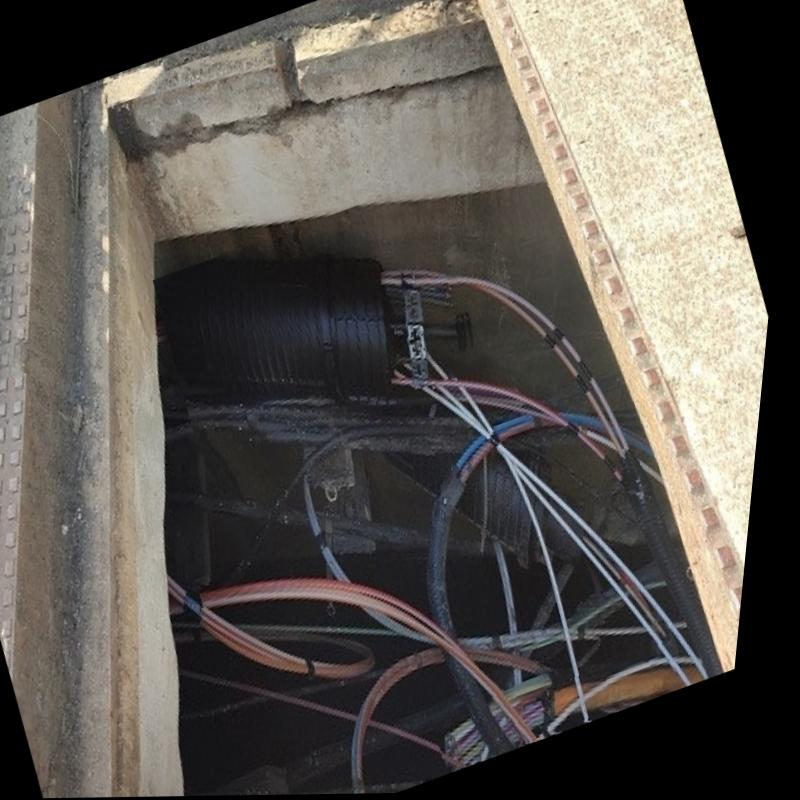NT-Muffen: (163, 259, 481, 399)
Orang-Speednetrohrchen: (455, 665, 694, 774)
